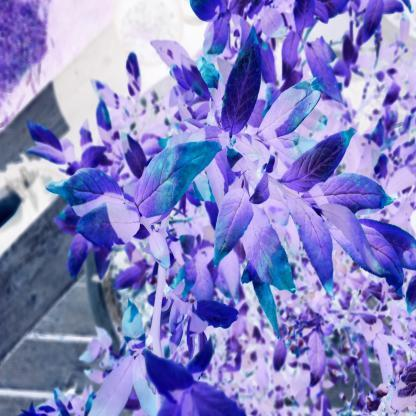Blueberry leaf: (293, 160, 401, 328), (212, 184, 294, 354), (87, 302, 195, 416), (44, 162, 145, 261), (252, 66, 351, 157), (282, 119, 364, 210), (135, 136, 223, 216), (214, 21, 264, 160)
